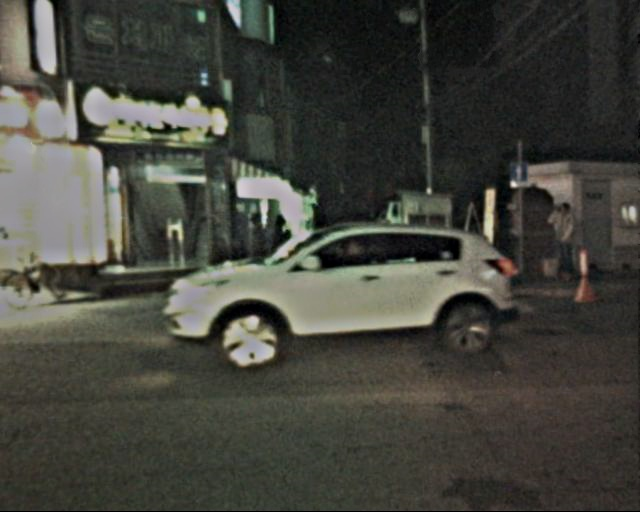person: (545, 201, 582, 286)
